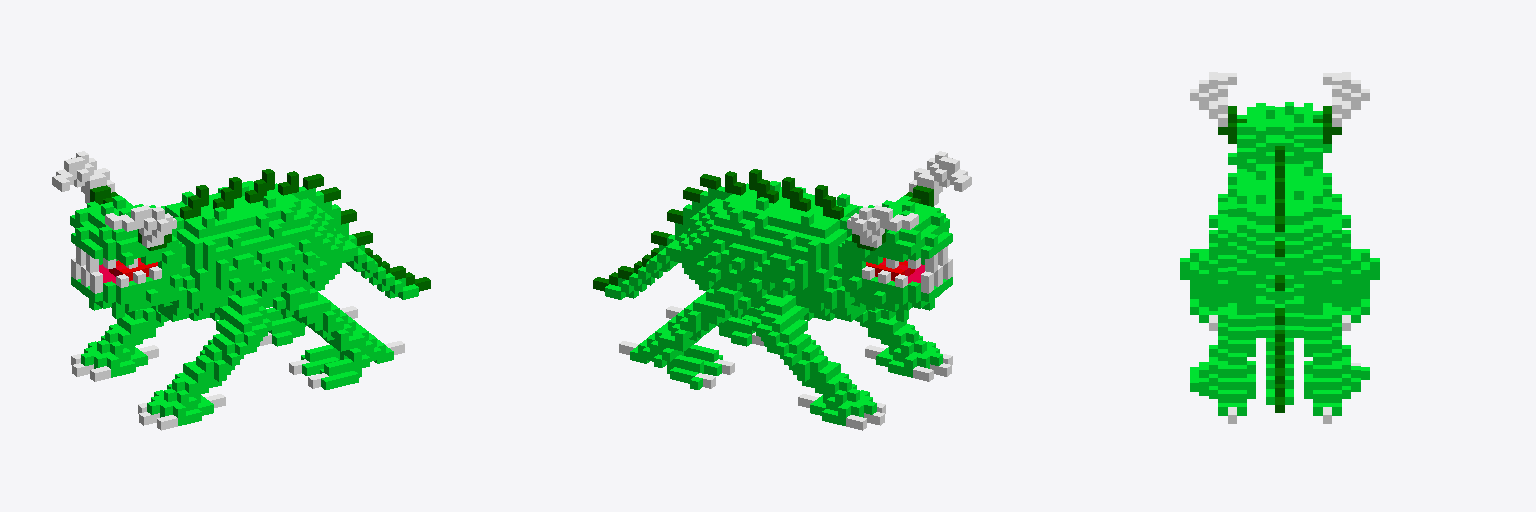
3 views of the same model, side by side, from view 1: azimuth 30°, elevation 25°; view 2: azimuth 150°, elevation 25°; view 3: azimuth 270°, elevation 25° (orthographic).
Parts seen in each view (by area): view 1: object 1; view 2: object 1; view 3: object 1.
Part boxes in pixels (bbox=[...]): object 1: bbox=[52, 151, 430, 430]; object 1: bbox=[593, 151, 971, 430]; object 1: bbox=[1180, 72, 1379, 423].
Bounding box in the file's own units: 4.2 × 2.5 × 2.1.
1 materials, 1 textured.